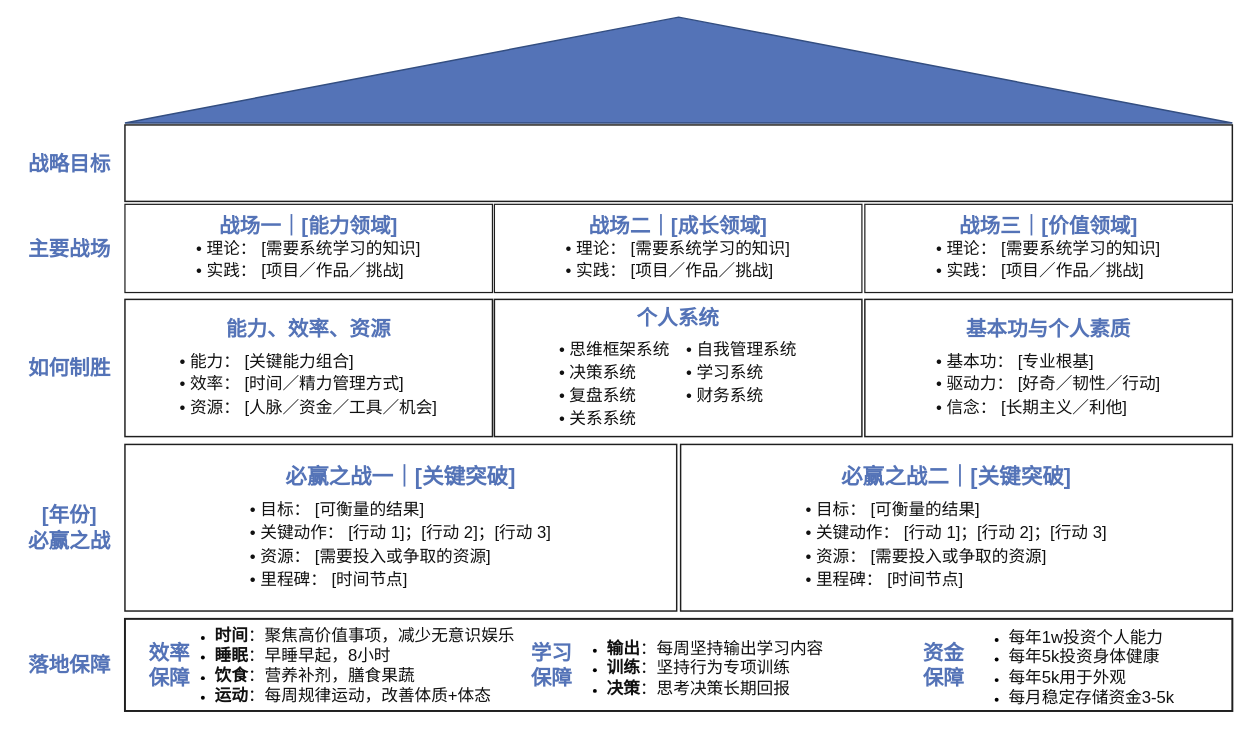
Image size: 1250x738. Some labels were removed from this diagram. The shapes that lost their labels are listed below. From the top down, each one's box as (x1, y1, x2, y2) in pixels, then its label:
(124, 16, 1233, 123): 使命： [我希望为自己／他人／世界创造的价值] 愿景： [目标年份] 年成为 [理想状态／角色]
(124, 124, 1233, 202): [核心战略目标／北极星指标] 示例：成为能持续创造价值的复合型人才
